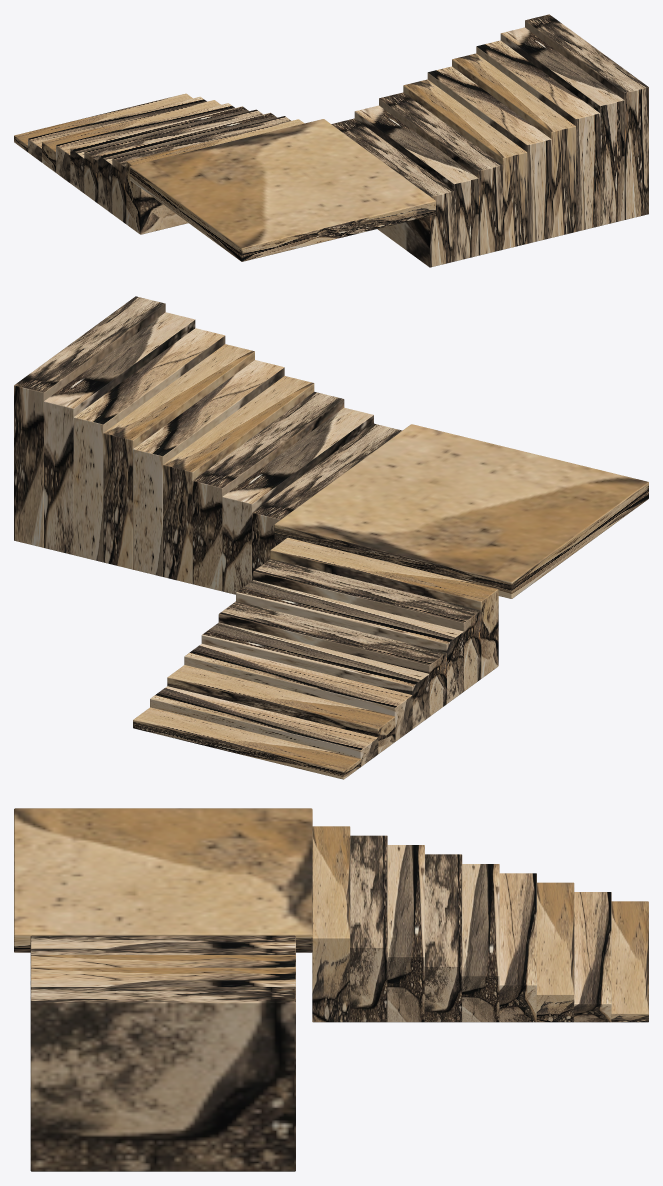
The model's file is stairs_corner_90_4m_LOD1.glb.
The picture shows the model from 3 angles, top to bottom: view 1: azimuth 30°, elevation 25°; view 2: azimuth 150°, elevation 25°; view 3: azimuth 270°, elevation 25°; orthographic projection. The views are drawn at different scales.
Parts seen in each view (by area): view 1: LOD1_Landing, LOD1_FlightB.008, LOD1_FlightB.007, LOD1_FlightB.006, LOD1_FlightB.005, LOD1_FlightB.004, LOD1_FlightB.003, LOD1_FlightB, LOD1_FlightB.002, LOD1_FlightB.001, LOD1_FlightA.008, LOD1_FlightA.007 (+7 smaller); view 2: LOD1_Landing, LOD1_FlightB.008, LOD1_FlightB.007, LOD1_FlightB.006, LOD1_FlightB.005, LOD1_FlightB.004, LOD1_FlightB.003, LOD1_FlightB.002, LOD1_FlightB.001, LOD1_FlightA.008, LOD1_FlightA.007, LOD1_FlightA.006 (+7 smaller); view 3: LOD1_FlightB.008, LOD1_Landing, LOD1_FlightA.008, LOD1_FlightA.007, LOD1_FlightA.006, LOD1_FlightA.005, LOD1_FlightA.004, LOD1_FlightA.003, LOD1_FlightA.002, LOD1_FlightA.001, LOD1_FlightA, LOD1_FlightB (+7 smaller).
Part boxes in pixels (x1=…): LOD1_Landing: x1=129, y1=119, x2=435, y2=261; LOD1_FlightB.008: x1=525, y1=14, x2=648, y2=219; LOD1_FlightB.007: x1=500, y1=27, x2=624, y2=225; LOD1_FlightB.006: x1=476, y1=40, x2=600, y2=231; LOD1_FlightB.005: x1=452, y1=53, x2=575, y2=237; LOD1_FlightB.004: x1=427, y1=66, x2=551, y2=243; LOD1_FlightB.003: x1=403, y1=79, x2=527, y2=249; LOD1_FlightB: x1=331, y1=118, x2=454, y2=267; LOD1_FlightB.002: x1=379, y1=92, x2=502, y2=255; LOD1_FlightB.001: x1=354, y1=105, x2=478, y2=261; LOD1_FlightA.008: x1=126, y1=119, x2=304, y2=234; LOD1_FlightA.007: x1=112, y1=116, x2=290, y2=223; LOD1_Landing: x1=274, y1=424, x2=648, y2=598; LOD1_FlightB.008: x1=14, y1=296, x2=165, y2=547; LOD1_FlightB.007: x1=44, y1=312, x2=195, y2=554; LOD1_FlightB.006: x1=73, y1=328, x2=225, y2=562; LOD1_FlightB.005: x1=103, y1=344, x2=254, y2=569; LOD1_FlightB.004: x1=133, y1=360, x2=284, y2=576; LOD1_FlightB.003: x1=163, y1=376, x2=314, y2=583; LOD1_FlightB.002: x1=192, y1=392, x2=344, y2=591; LOD1_FlightB.001: x1=222, y1=407, x2=373, y2=594; LOD1_FlightA.008: x1=270, y1=537, x2=498, y2=678; LOD1_FlightA.007: x1=253, y1=559, x2=481, y2=691; LOD1_FlightA.006: x1=236, y1=580, x2=463, y2=703; LOD1_FlightB.008: x1=30, y1=987, x2=295, y2=1171; LOD1_Landing: x1=14, y1=808, x2=312, y2=952; LOD1_FlightA.008: x1=312, y1=826, x2=350, y2=1022; LOD1_FlightA.007: x1=350, y1=835, x2=387, y2=1022; LOD1_FlightA.006: x1=387, y1=845, x2=424, y2=1022; LOD1_FlightA.005: x1=424, y1=854, x2=462, y2=1022; LOD1_FlightA.004: x1=462, y1=864, x2=499, y2=1022; LOD1_FlightA.003: x1=499, y1=873, x2=536, y2=1022; LOD1_FlightA.002: x1=536, y1=882, x2=574, y2=1022; LOD1_FlightA.001: x1=574, y1=892, x2=611, y2=1022; LOD1_FlightA: x1=611, y1=901, x2=648, y2=1022; LOD1_FlightB: x1=30, y1=935, x2=295, y2=942.
Bounding box in the file's own units: 8.5 × 2.5 × 8.5.
Materials: 1 (1 with a texture image).
